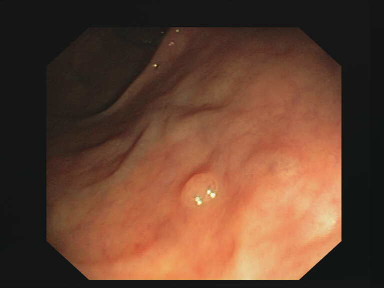polyp: (173, 159, 234, 215)
